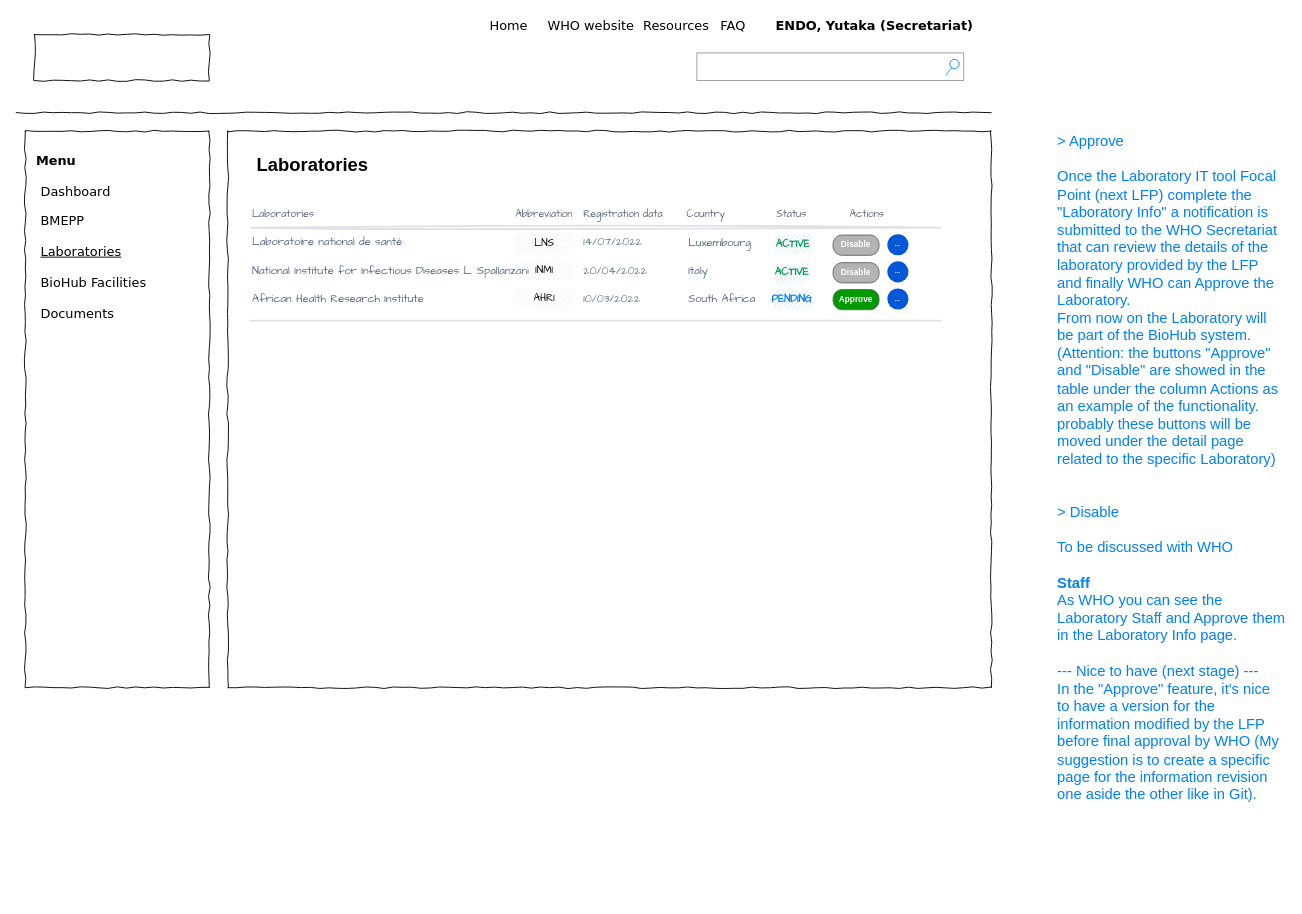
Some shapes in this 1302 by 914 pixel diagram are drawn without their labels. Here are the shapes that lost their labels. From the top down, the box of each, then its label:
(34, 34, 209, 80): LOGO
(696, 52, 964, 80): Search
